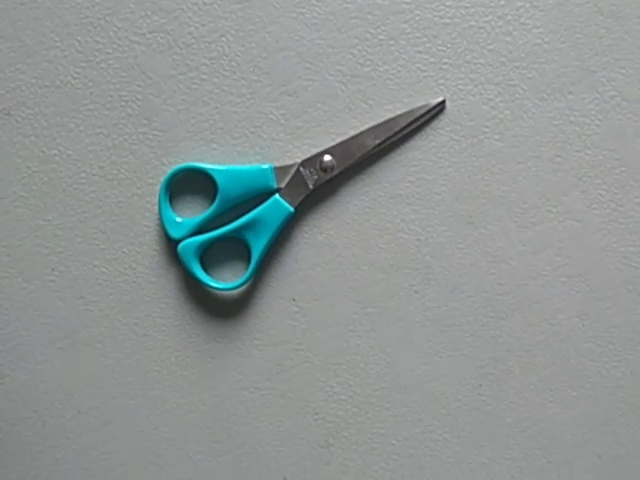Sizer: (154, 95, 450, 299)
